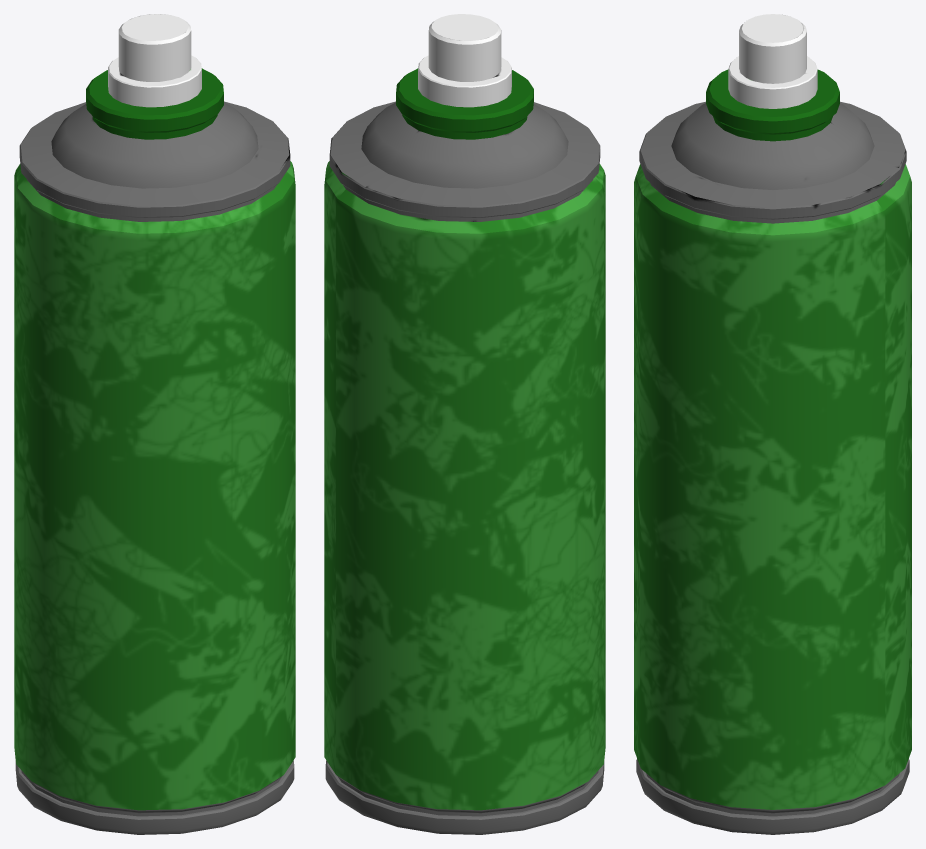
The model's file is Spray_can_03 (1).fbx.
3 views of the same model, side by side, from view 1: azimuth 30°, elevation 25°; view 2: azimuth 150°, elevation 25°; view 3: azimuth 270°, elevation 25° (orthographic).
Visible parts, largest first — view 1: pCylinder3; view 2: pCylinder3; view 3: pCylinder3.
Part boxes in pixels (left/top/right/bottom): pCylinder3: left=14, top=14, right=295, bottom=834; pCylinder3: left=324, top=14, right=605, bottom=834; pCylinder3: left=634, top=14, right=911, bottom=834.
Bounding box in the file's own units: 8.43 × 24.52 × 8.24.
Materials: 1 (1 with a texture image).
